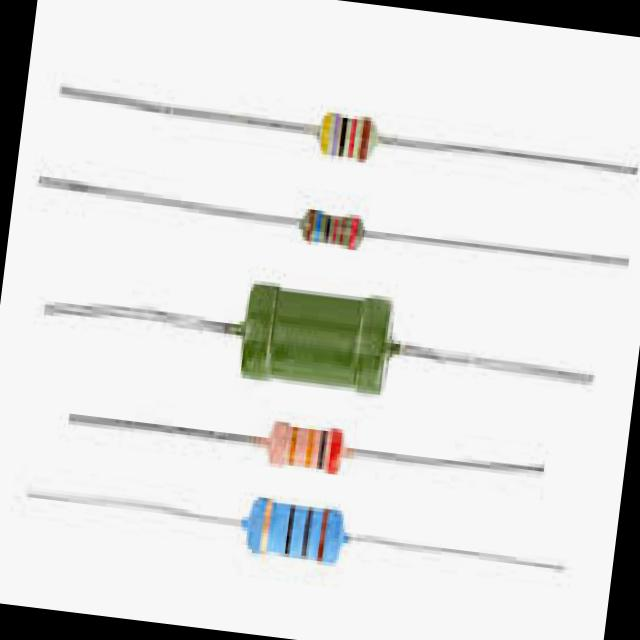Resistor: (239, 495, 347, 567), (264, 417, 350, 475), (310, 107, 382, 164), (296, 205, 364, 258)
black: (301, 499, 316, 562), (283, 497, 297, 557), (318, 420, 331, 472), (339, 114, 349, 155), (326, 211, 333, 242)
blue: (315, 207, 324, 245)
brown: (320, 505, 330, 561)
gold: (260, 491, 275, 554), (322, 112, 332, 150)
orange: (304, 418, 319, 473), (287, 416, 300, 471)
purple: (332, 110, 343, 154)
red: (329, 421, 344, 474), (351, 115, 360, 156)
